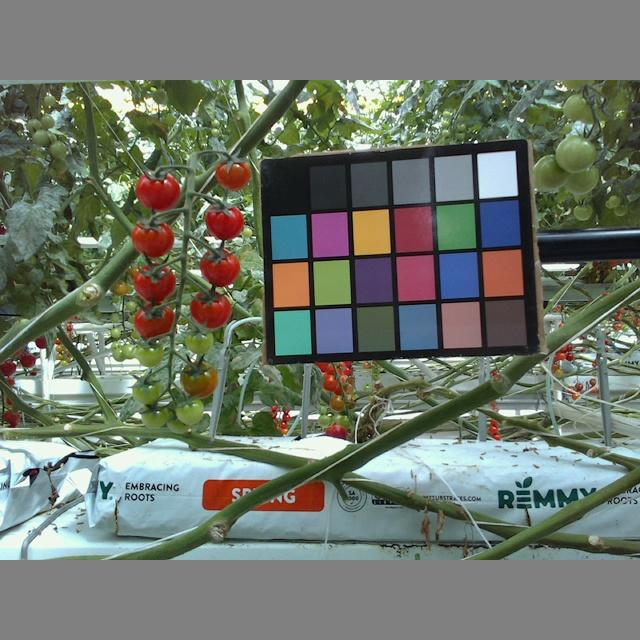green: (561, 157, 604, 195), (555, 136, 598, 172), (532, 153, 570, 192), (174, 396, 206, 427), (132, 375, 166, 404), (137, 403, 170, 431), (183, 328, 214, 355), (135, 340, 166, 367)
pink: (175, 361, 219, 395)
red: (135, 173, 182, 211), (190, 291, 233, 331), (130, 219, 174, 258), (197, 250, 242, 288), (132, 302, 174, 340), (135, 264, 175, 302), (205, 204, 245, 240), (214, 162, 254, 189)
